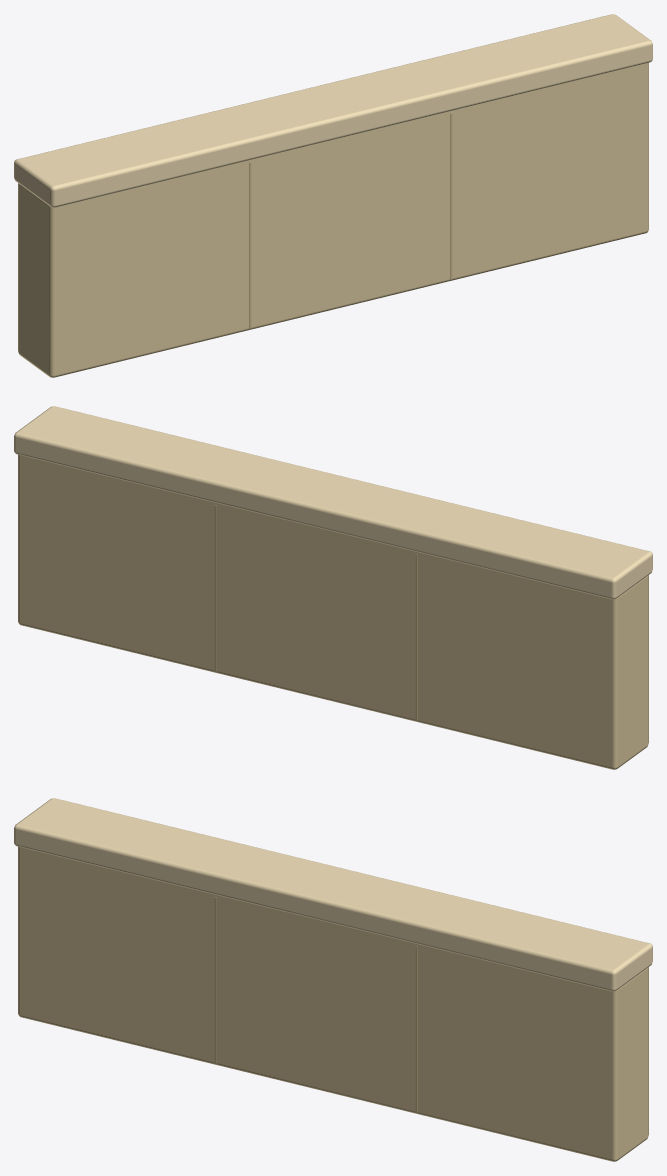
File: wall-segment.glb
3 views of the same model, one above another, from view 1: azimuth 30°, elevation 25°; view 2: azimuth 150°, elevation 25°; view 3: azimuth 330°, elevation 25° (orthographic).
Parts seen in each view (by area): view 1: Batched_Wall_WarmStone_148, Batched_Wall_SunlitCap_149, Batched_Wall_StoneJoint_150; view 2: Batched_Wall_WarmStone_148, Batched_Wall_SunlitCap_149, Batched_Wall_StoneJoint_150; view 3: Batched_Wall_WarmStone_148, Batched_Wall_SunlitCap_149, Batched_Wall_StoneJoint_150.
Part boxes in pixels (x1=…): Batched_Wall_WarmStone_148: x1=18, y1=62, x2=648, y2=377; Batched_Wall_SunlitCap_149: x1=14, y1=14, x2=652, y2=207; Batched_Wall_StoneJoint_150: x1=249, y1=113, x2=452, y2=328; Batched_Wall_WarmStone_148: x1=18, y1=454, x2=648, y2=769; Batched_Wall_SunlitCap_149: x1=14, y1=406, x2=652, y2=599; Batched_Wall_StoneJoint_150: x1=214, y1=505, x2=417, y2=720; Batched_Wall_WarmStone_148: x1=18, y1=846, x2=648, y2=1161; Batched_Wall_SunlitCap_149: x1=14, y1=798, x2=652, y2=991; Batched_Wall_StoneJoint_150: x1=214, y1=897, x2=417, y2=1112.
Size of the model in its own units: 4.02 by 1.24 by 0.46.
